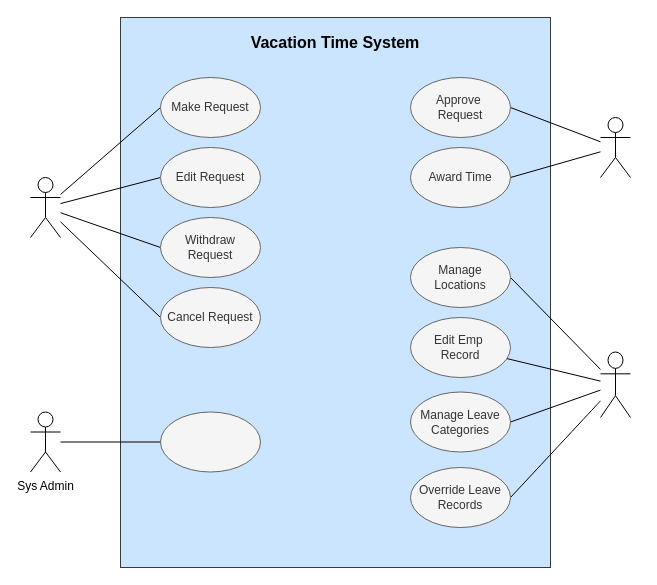
Some shapes in this 657 by 585 pixel diagram are drawn without their labels. The centre of each missing label's shape, as x and y in pixels:
"Back Up Logs" belongs at point (210, 441).
"Employee" belongs at point (45, 207).
"HR Clerk" belongs at point (615, 384).
"Manager" belongs at point (615, 147).
